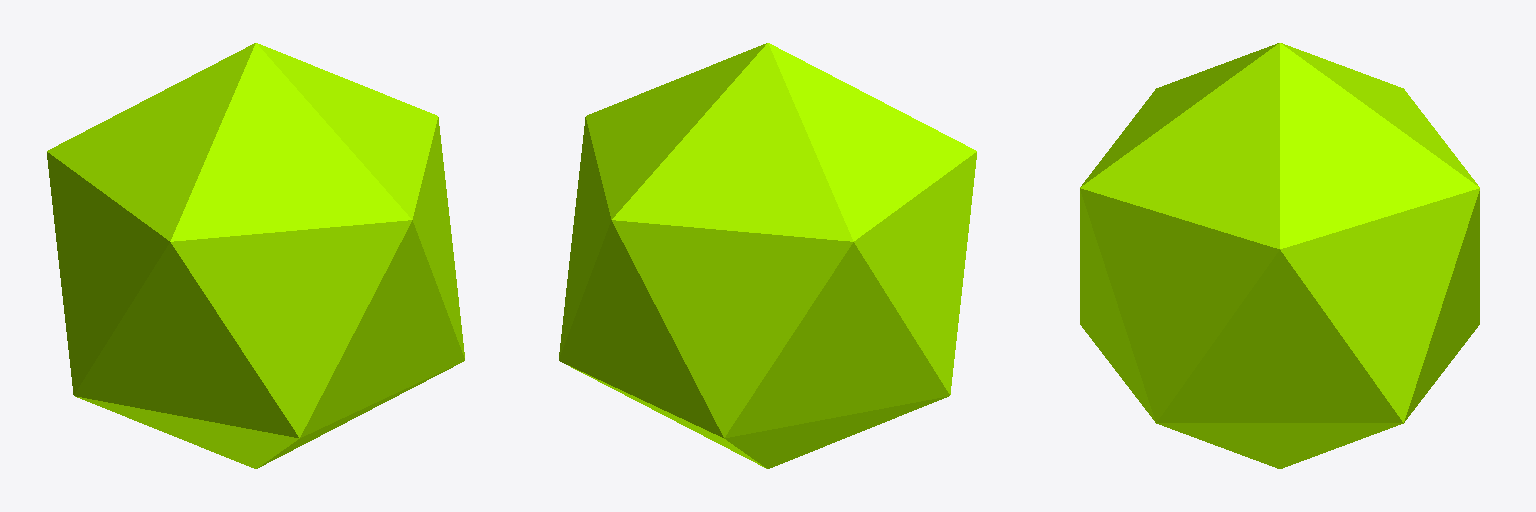
File: ufo_bullet.obj
The picture shows the model from 3 angles: view 1: azimuth 30°, elevation 25°; view 2: azimuth 150°, elevation 25°; view 3: azimuth 270°, elevation 25°; orthographic projection.
Visible parts, largest first — view 1: bullet; view 2: bullet; view 3: bullet.
Boxes of the visible parts, x1=… form: bullet: x1=47, y1=43, x2=464, y2=468; bullet: x1=559, y1=43, x2=976, y2=468; bullet: x1=1080, y1=43, x2=1479, y2=468.
Bounding box in the file's own units: 1.29 × 1.45 × 1.23.